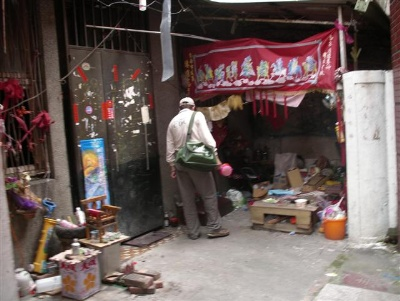bowl: (294, 198, 308, 208)
bucket: (60, 258, 101, 300), (323, 217, 346, 241)
